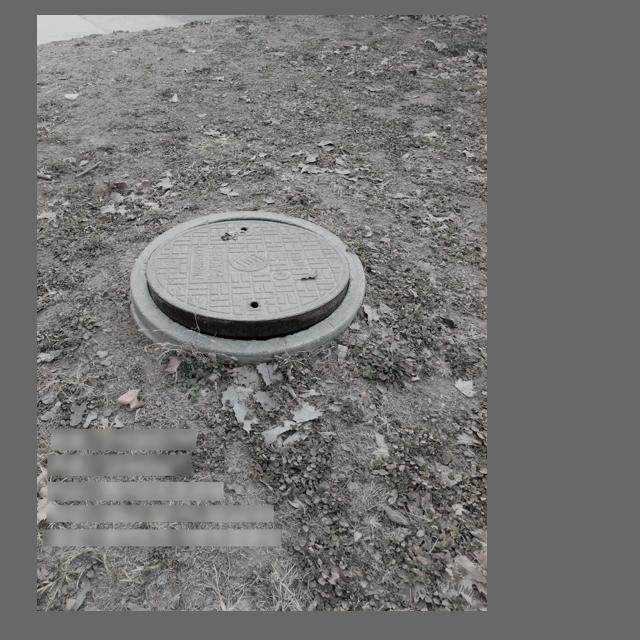uncovered: (130, 211, 364, 366)
